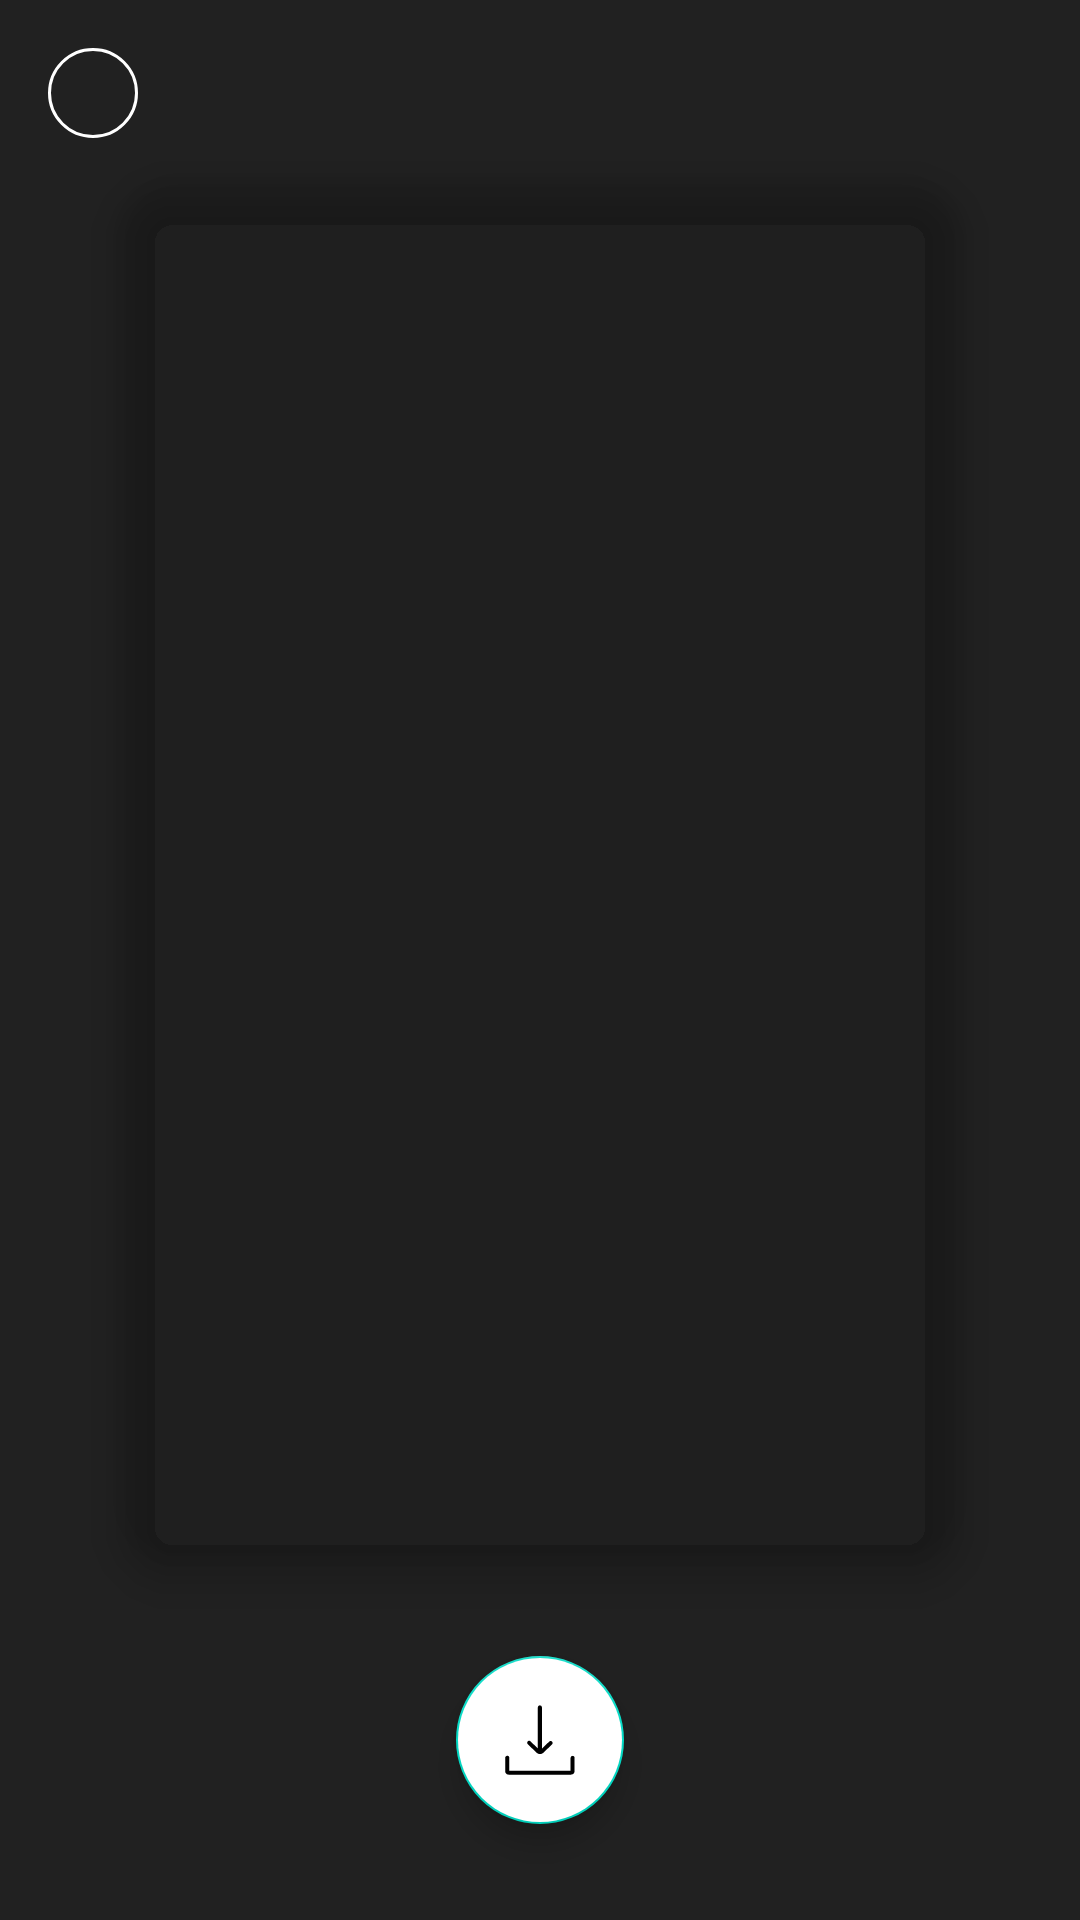

Point at icon controls on the screen. Image size 1080 × 1920, points as (x,y).
download: (540,1740)
